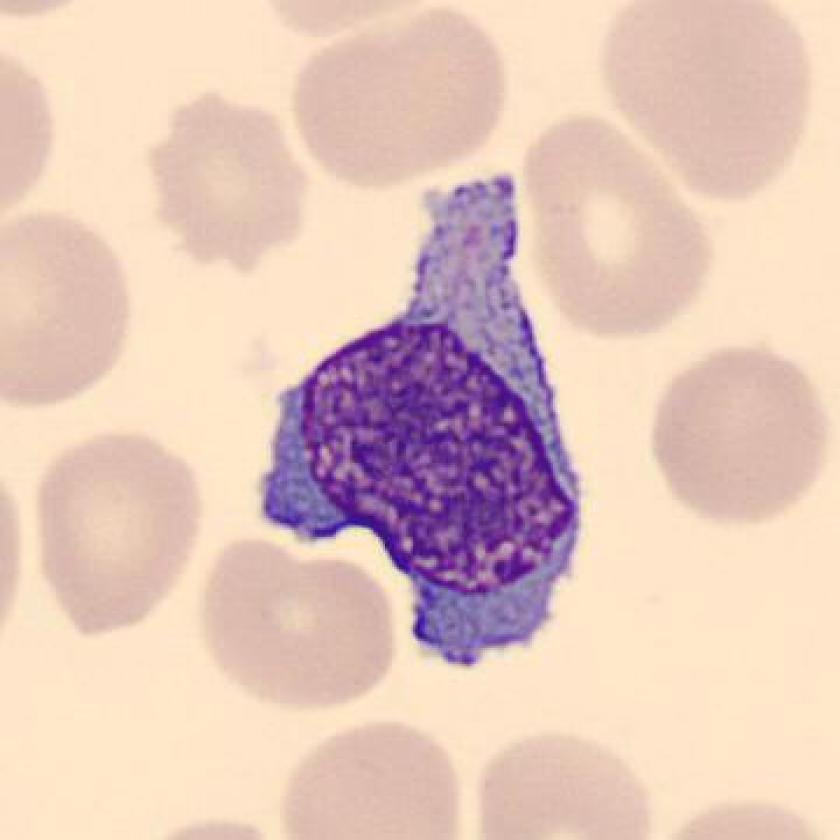monocyte: (234, 161, 608, 679)
